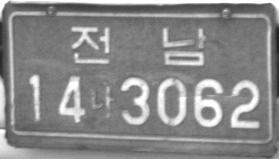0: (156, 75, 188, 128)
1: (23, 72, 47, 120)
2: (230, 78, 261, 129)
3: (120, 75, 151, 126)
4: (57, 74, 86, 124)
6: (192, 77, 224, 128)
나: (90, 82, 115, 118)
전남_D: (70, 24, 207, 67)
